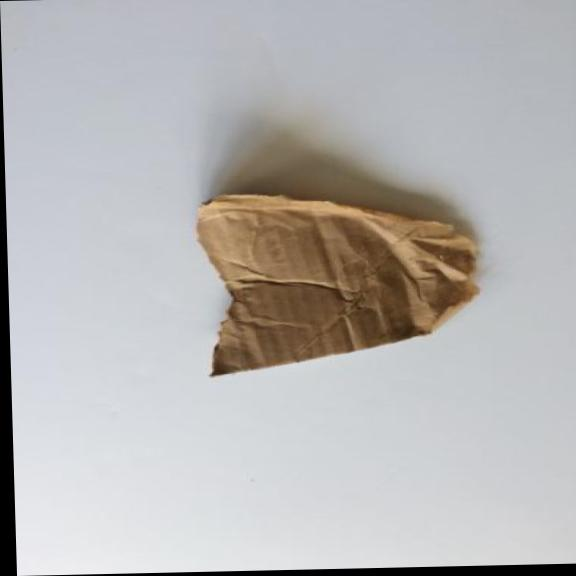Kertas: (198, 195, 476, 375)
